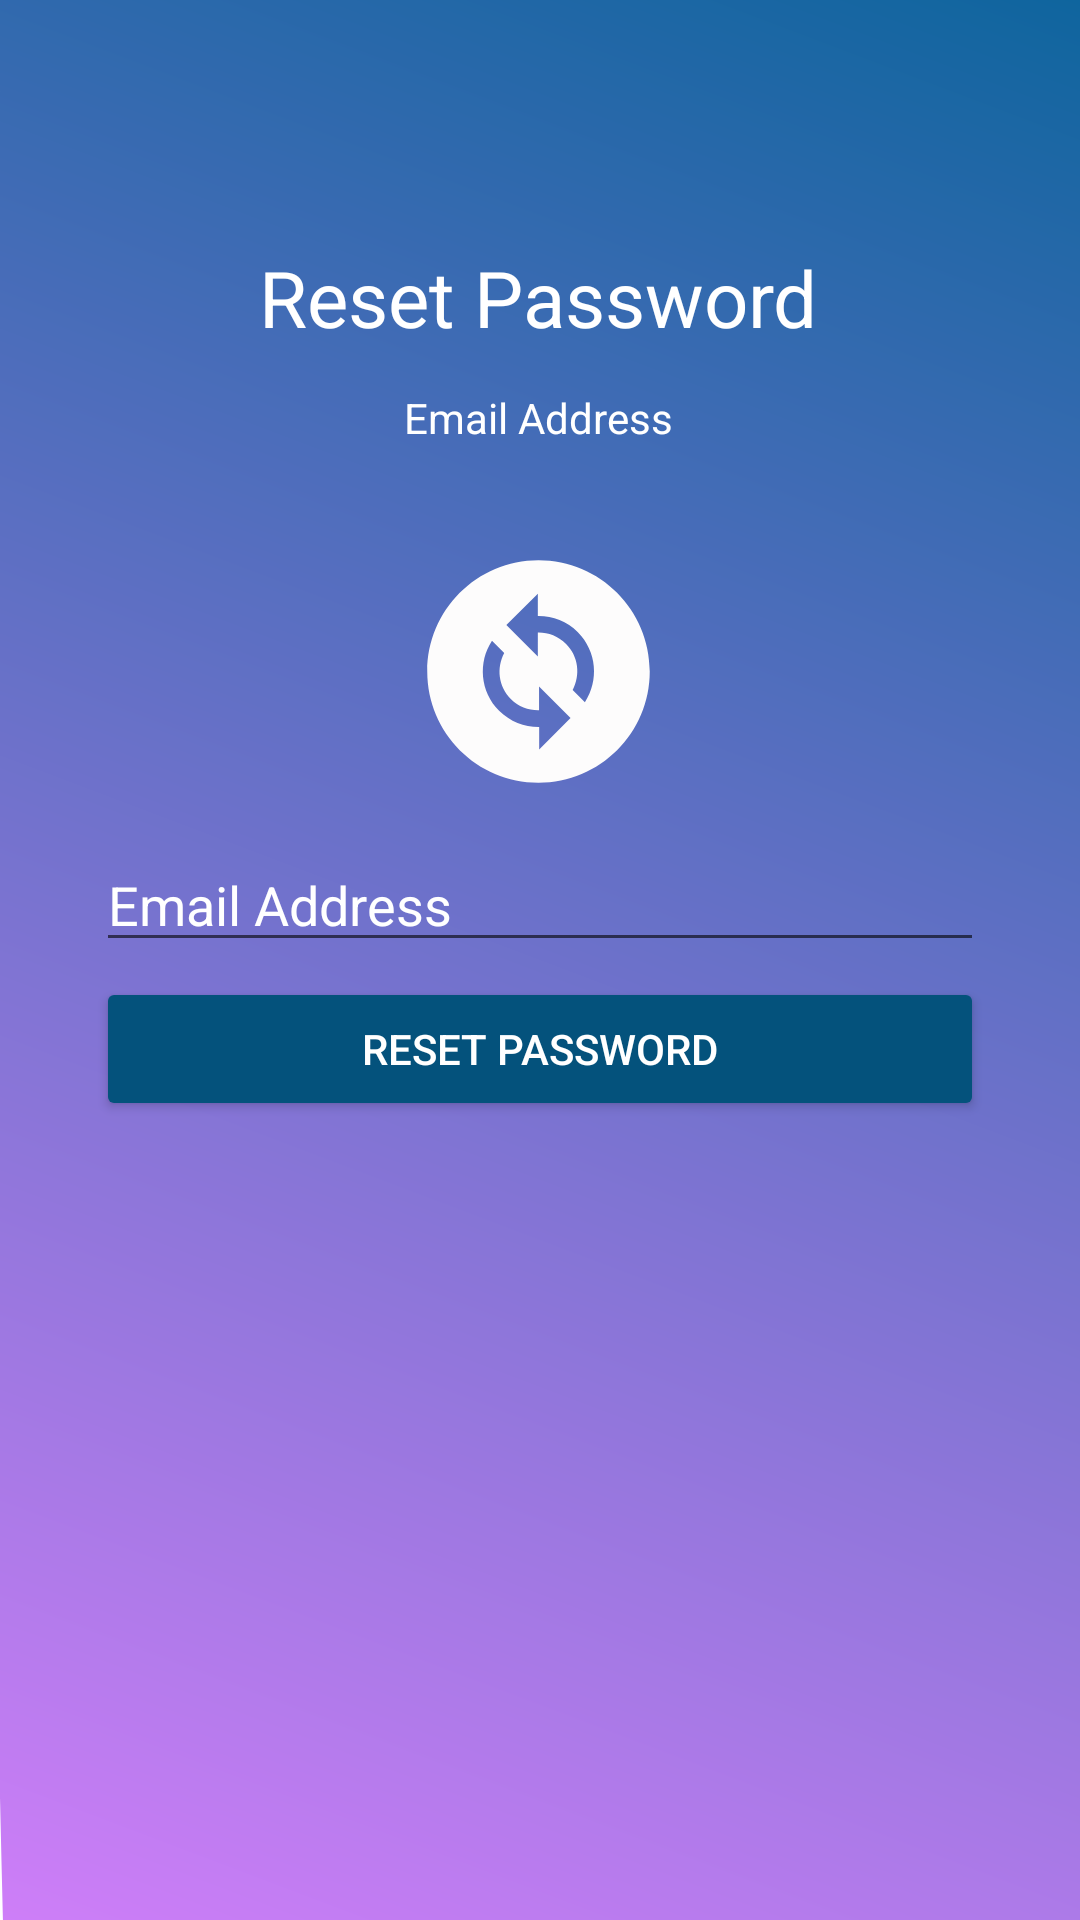

Screen size 1080w x 1920h. Icon name, then its center in pixels as point (x, y):
change circle: point (538, 671)
